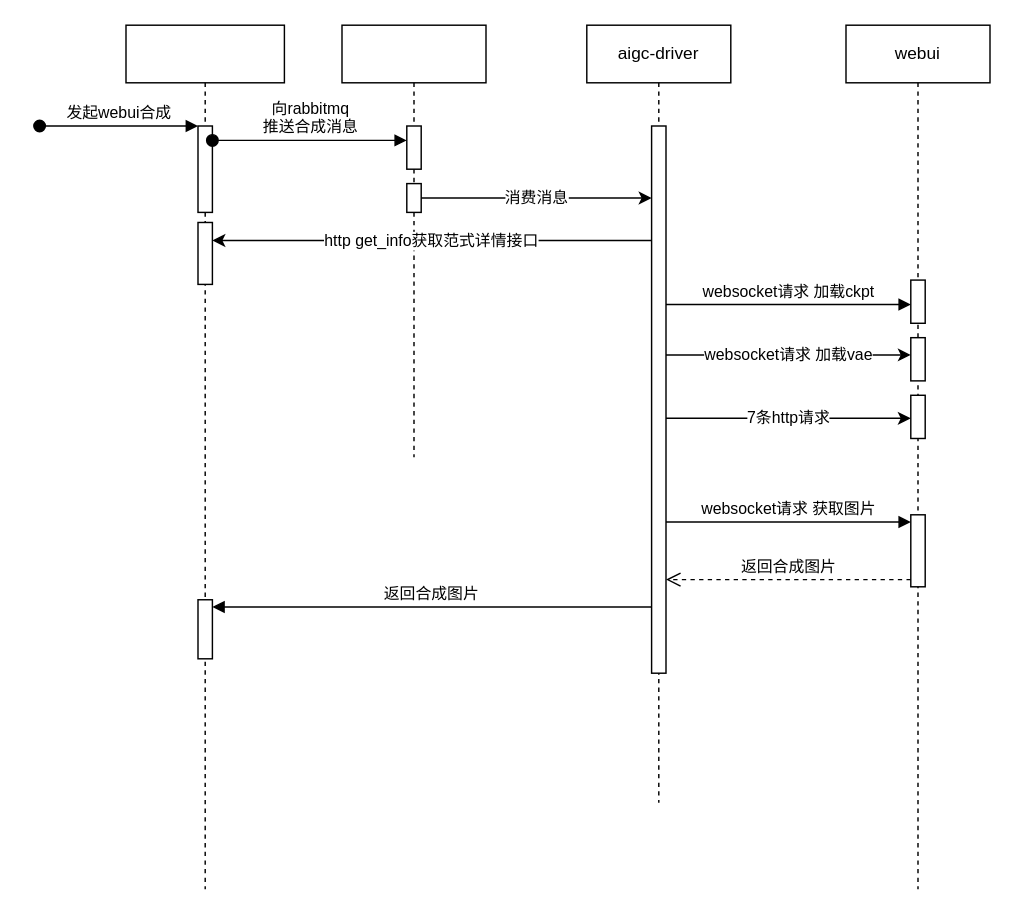
This 1015x914 diagram has some shape labels left out. The shapes that lost their labels are listed below. From the top down, each one's box as (x1, y1, x2, y2) in pixels, then its label:
(341, 24, 486, 457): rabbitmq
(125, 24, 284, 889): core-server
